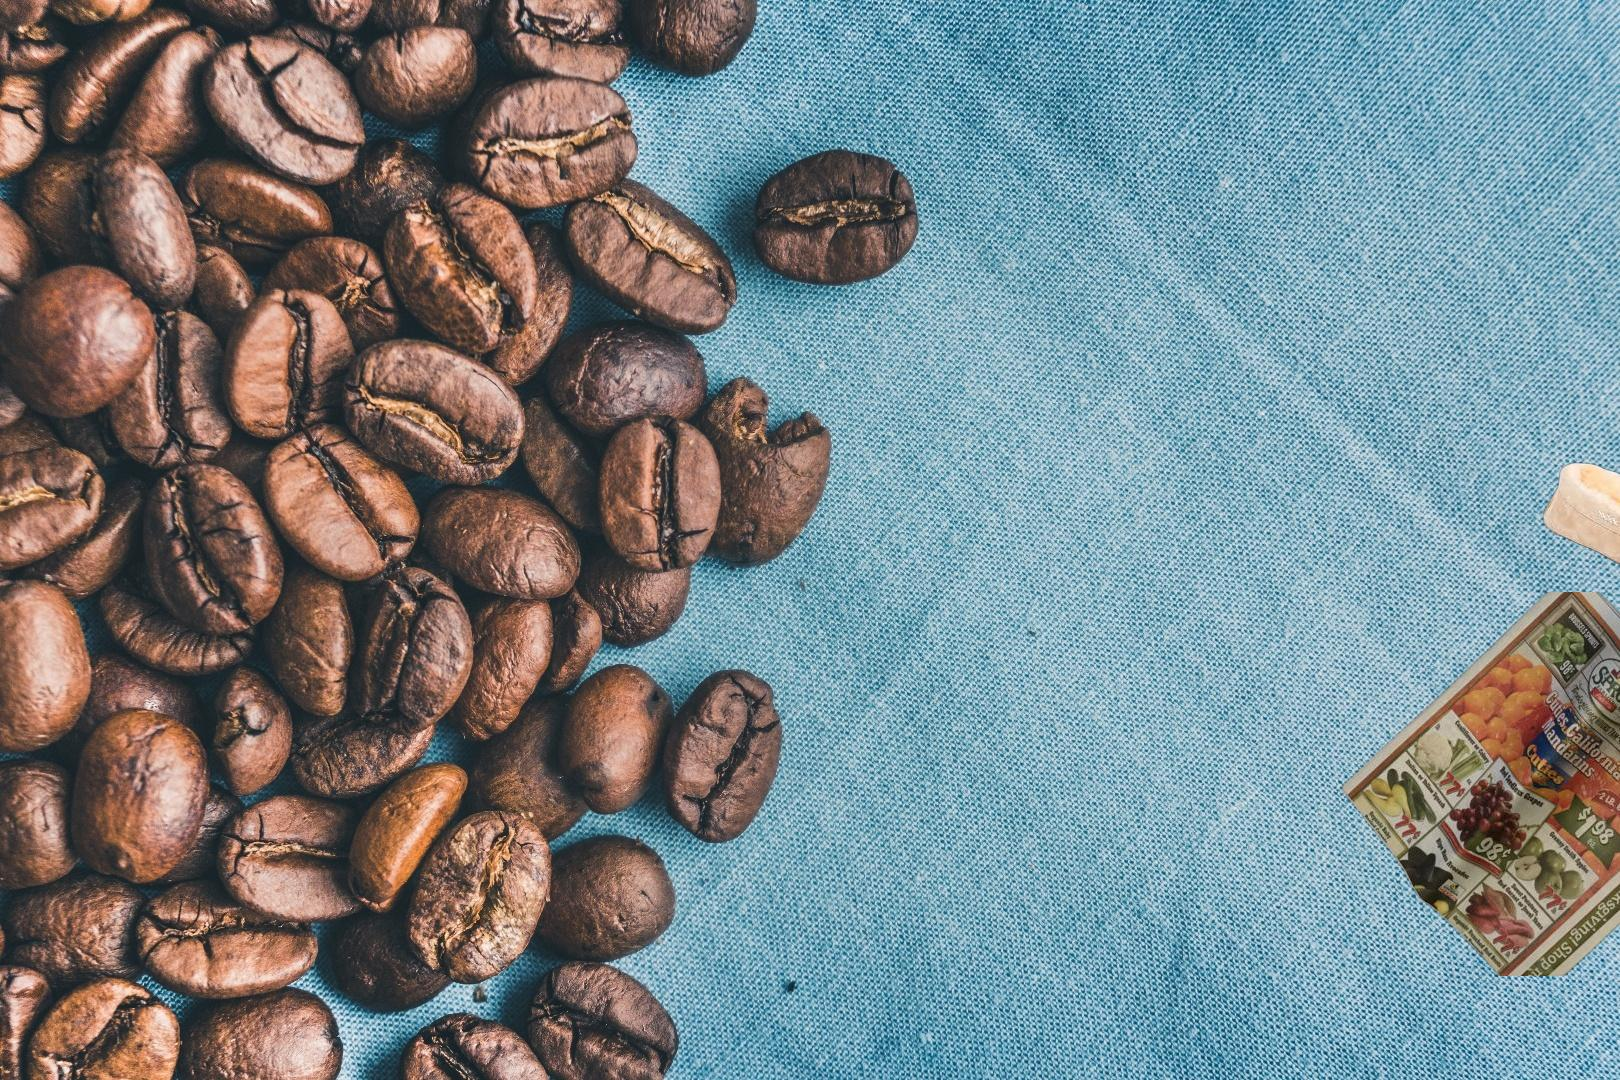paper: (1338, 592, 1620, 976)
shoes: (1540, 460, 1620, 581)
